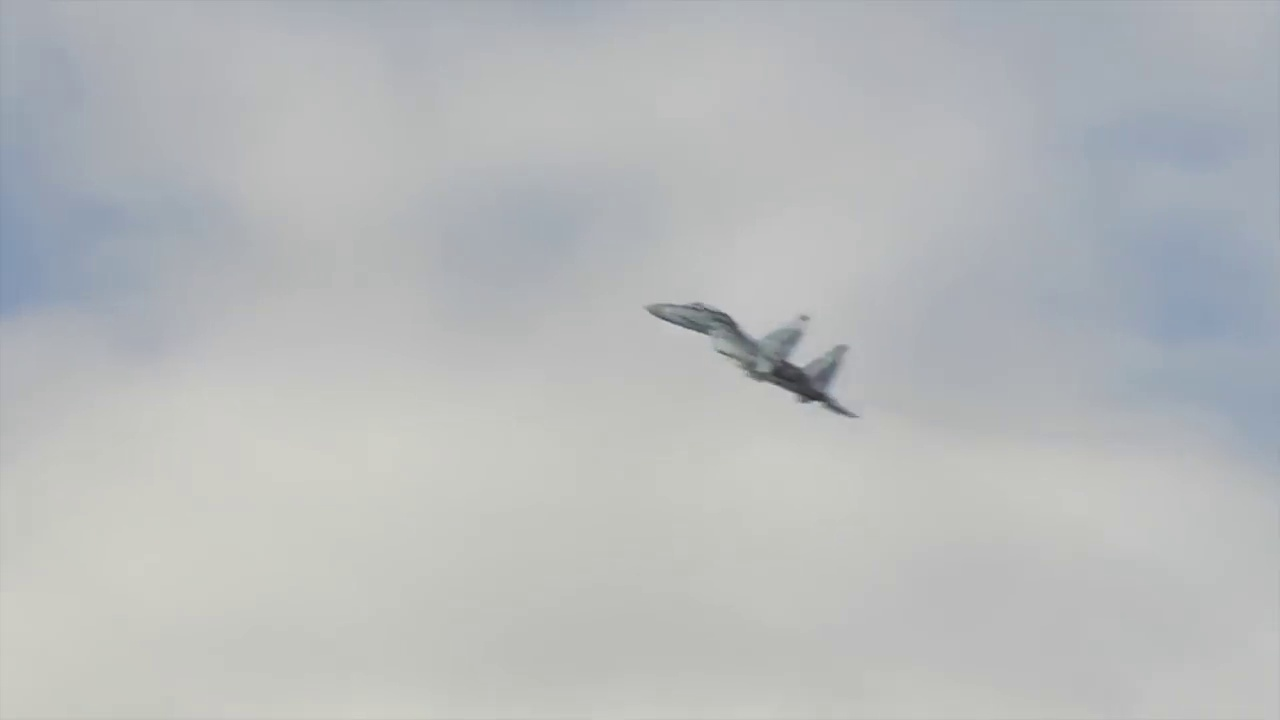Su35: (634, 287, 865, 426)
